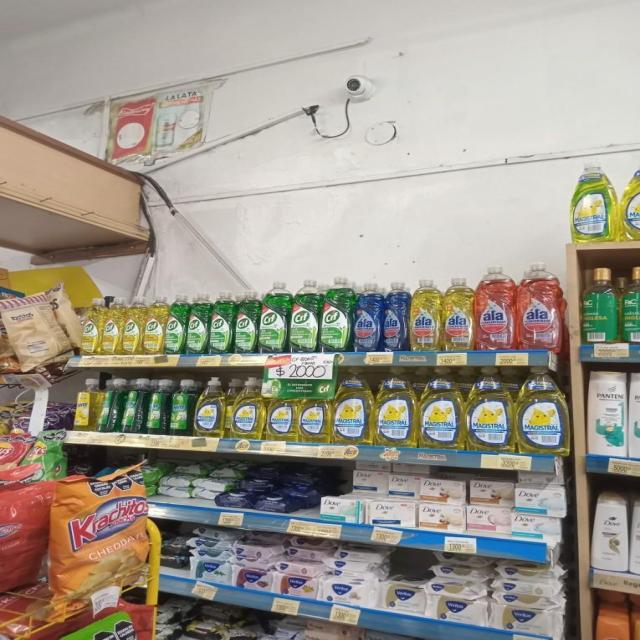ala_conc_amarillo: (442, 275, 474, 352), (410, 277, 441, 352)
ala_conc_azul: (353, 280, 382, 352), (382, 279, 408, 352)
ala_conc_rojo: (517, 261, 562, 351), (476, 264, 516, 352)
cif_conc_bot_amarilla: (80, 296, 102, 355), (144, 294, 165, 354), (123, 296, 143, 355), (103, 296, 122, 355)
cif_conc_botella_verde: (320, 276, 352, 353), (290, 278, 319, 353), (260, 280, 289, 354), (209, 291, 234, 353), (235, 289, 259, 353), (187, 292, 209, 354), (166, 293, 186, 355)
magistral_con_amarillo: (516, 365, 569, 454), (466, 365, 513, 452), (568, 160, 617, 242), (418, 366, 464, 450), (374, 367, 416, 447), (333, 367, 373, 445), (228, 378, 264, 439), (194, 377, 226, 437), (621, 152, 640, 240), (298, 396, 331, 444), (266, 396, 297, 442)
